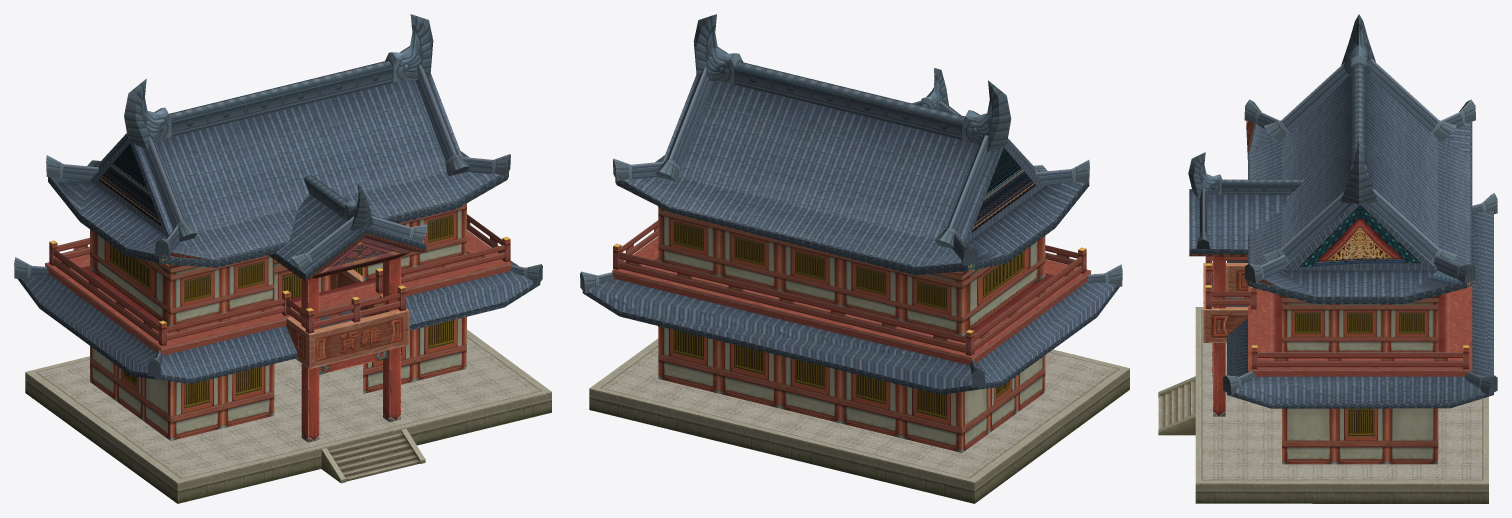
3 views of the same model, side by side, from view 1: azimuth 30°, elevation 25°; view 2: azimuth 150°, elevation 25°; view 3: azimuth 270°, elevation 25° (orthographic). The views are drawn at different scales.
Visible parts, largest first — view 1: gujian_162, gujian_156, gujian_159, gujian_163, gujian_155, gujian_158, gujian_157, gujian_160, gujian_154, gujian_153; view 2: gujian_162, gujian_156, gujian_163, gujian_158, gujian_155, gujian_159, gujian_157, gujian_154; view 3: gujian_162, gujian_163, gujian_159, gujian_156, gujian_155, gujian_158, gujian_157, gujian_154, gujian_160, gujian_161.
Part boxes in pixels (x1,y1,x2,y2): gujian_162: (18,73,540,383); gujian_156: (90,203,466,440); gujian_159: (38,337,539,478); gujian_163: (14,14,542,376); gujian_155: (45,214,511,355); gujian_158: (25,329,551,503); gujian_157: (49,144,510,442); gujian_160: (322,428,424,481); gujian_154: (90,346,170,440); gujian_153: (316,237,411,274); gujian_162: (582,75,1119,394); gujian_156: (658,206,1045,452); gujian_163: (580,14,1122,387); gujian_158: (589,338,1129,503); gujian_155: (612,220,1090,365); gujian_159: (602,347,1117,477); gujian_157: (613,147,1086,355); gujian_154: (962,355,1045,452); gujian_162: (1189,75,1493,408); gujian_163: (1188,14,1497,394); gujian_159: (1202,311,1481,479); gujian_156: (1282,298,1438,464); gujian_155: (1212,256,1472,376); gujian_158: (1195,307,1488,503); gujian_157: (1203,205,1472,416); gujian_154: (1282,408,1438,464); gujian_160: (1158,376,1195,431); gujian_161: (1158,378,1195,435).
Bounding box in the file's own units: 3.21 × 2.73 × 2.48.
Materials: 11 (11 with a texture image).
